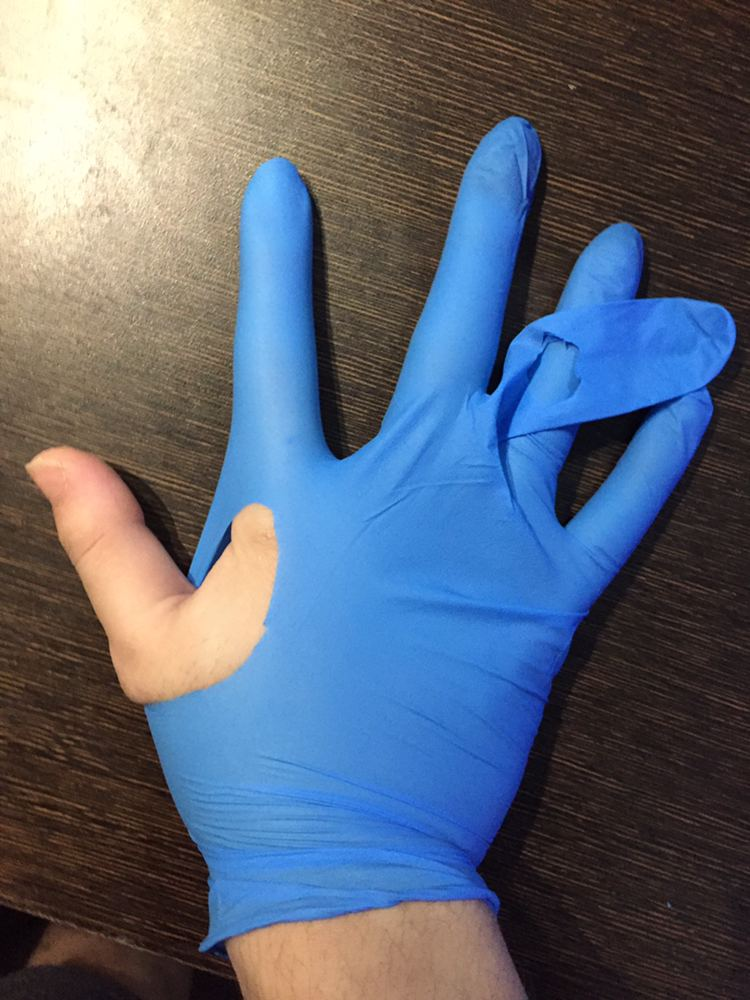defected: (17, 103, 732, 875)
